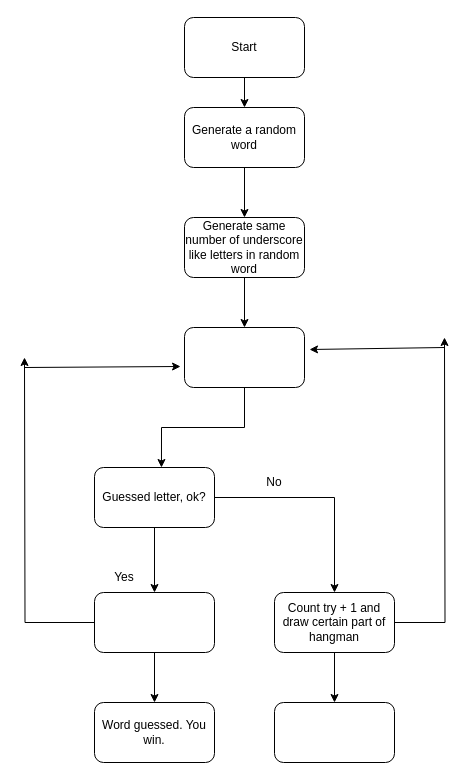
The diagram is 471 pixels wide and 780 high, and some of its shapes have lost their labels. Each missing label, with the centre of its shape:
Ask user for letter: the point at 244,357
Fill the letter to word: the point at 154,622
Hangman done. Game over.: the point at 334,732
